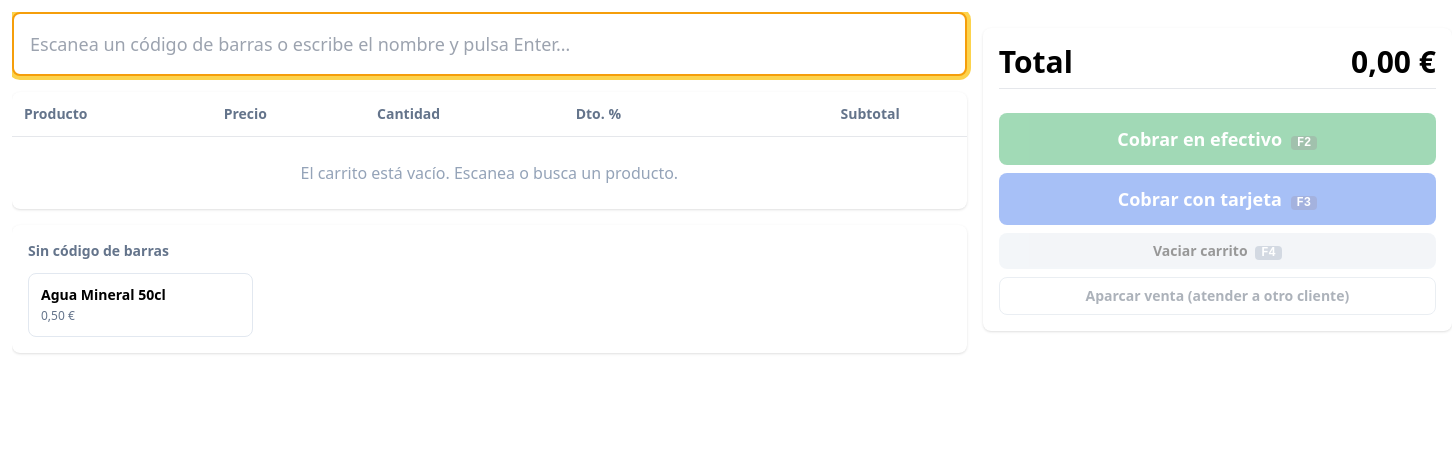
Test case: aparcar venta › aparca el carrito actual y lo recupera después
This screenshot has width=1452, height=472.
Click the button "Agua Mineral 50cl 0,50 €".
click(140, 305)  # box [28,273,253,336]
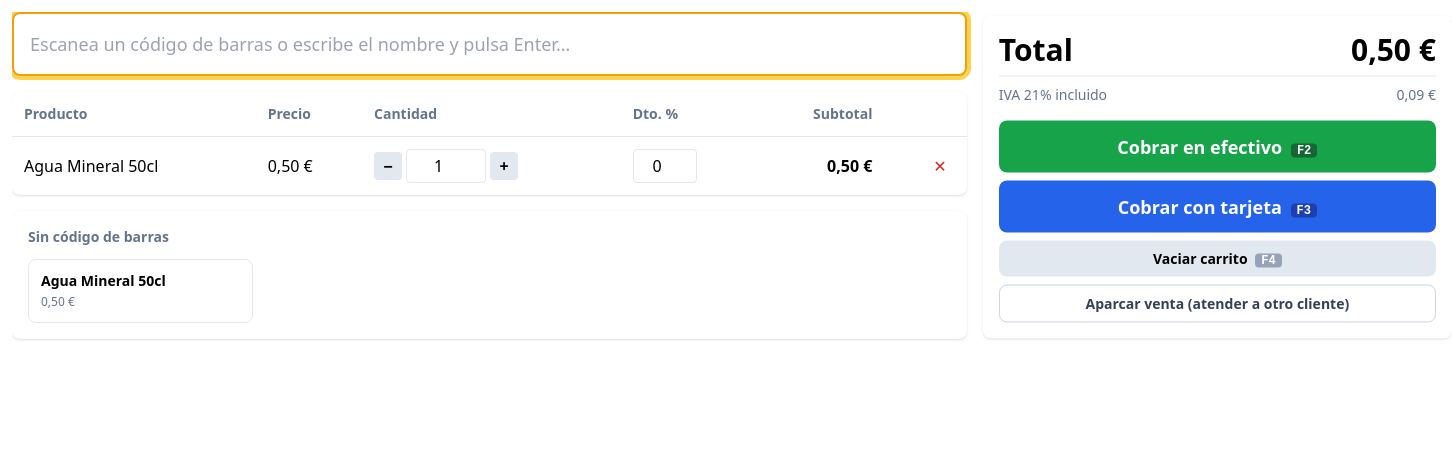
Click the button "Aparcar venta (atender a otro cliente)".
click(1217, 304)  # box [999,284,1436,322]
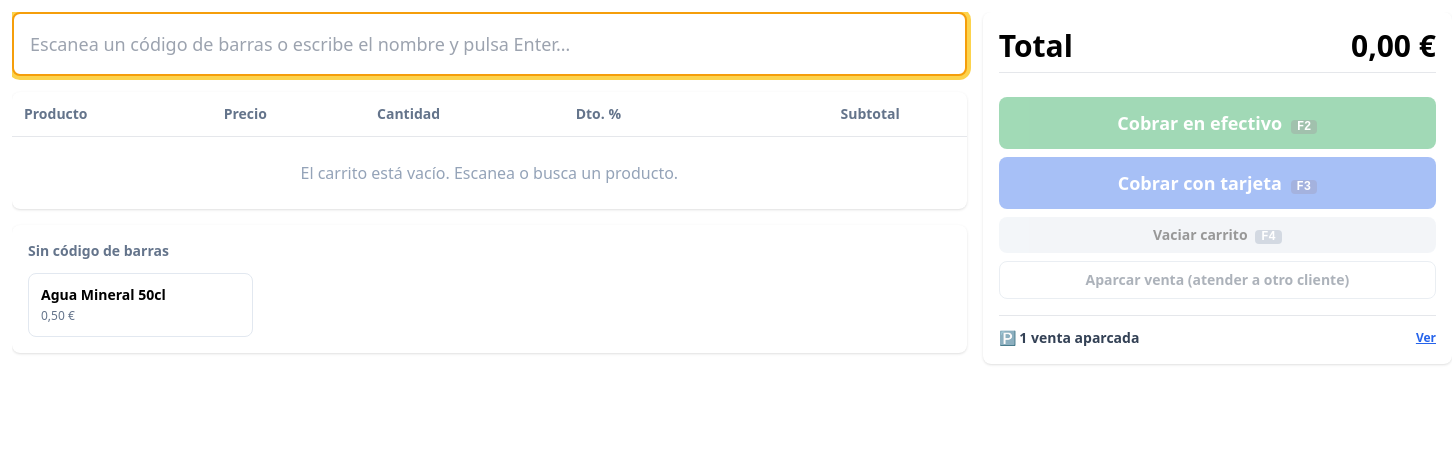
Expected: the text "El carrito está vacío. Escanea o busca un producto." is shown, [12,136,967,209]
Expected: the button "🅿️ 1 venta aparcada Ver" is shown
Click the button "🅿️ 1 venta aparcada Ver".
click(1049, 338)  # box [999,328,1436,348]
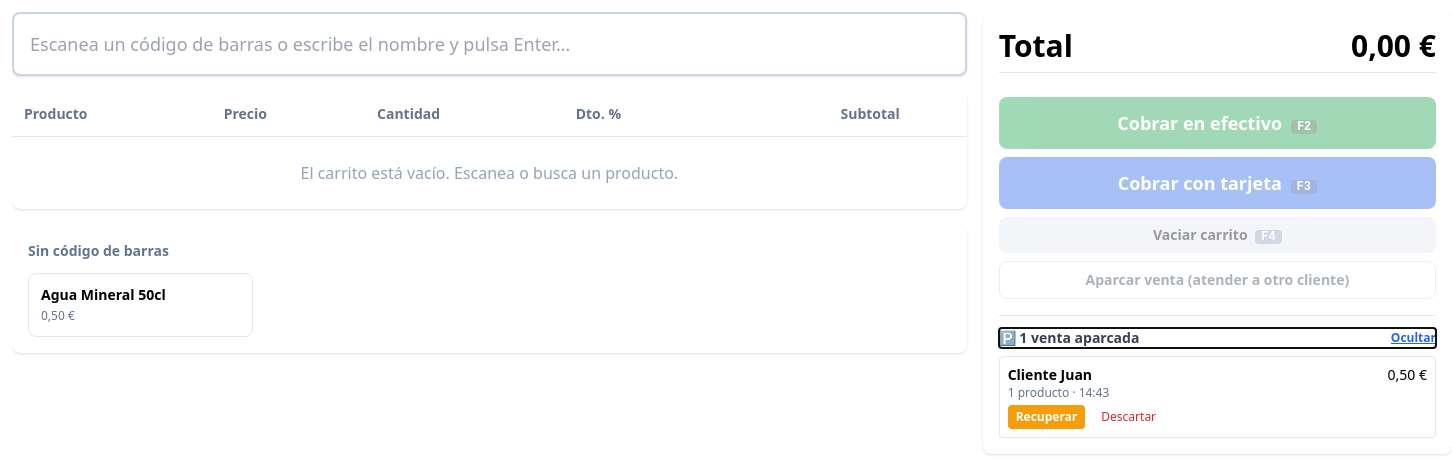
Expected: the text "Cliente Juan" is shown, [1008,365,1092,385]
Click the button "Recuperar".
click(1047, 417)  # box [1008,405,1085,429]
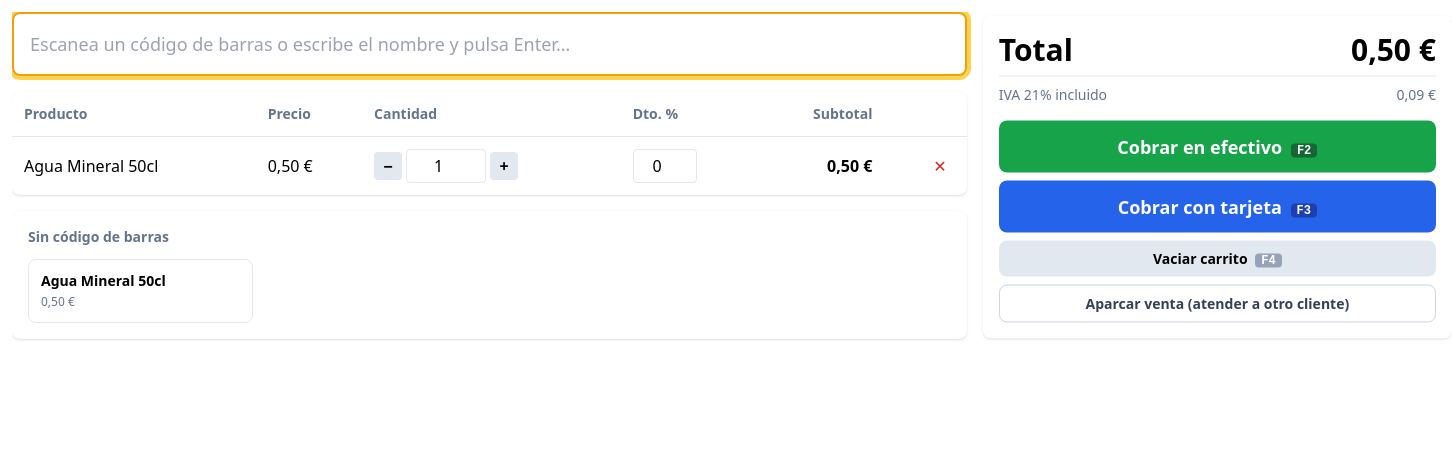
Expected: the text "Agua Mineral 50cl" is shown, [12,136,256,195]
Expected: the button "venta aparcada" is gone
